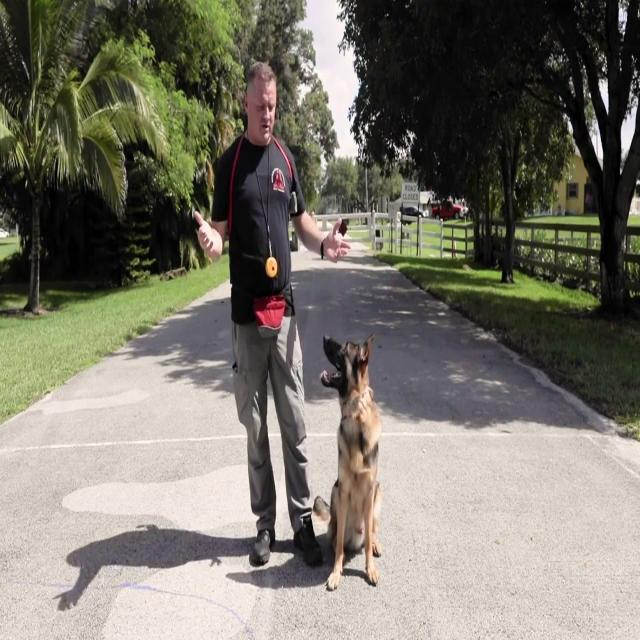Unleashed_Dog: (246, 308, 384, 593)
